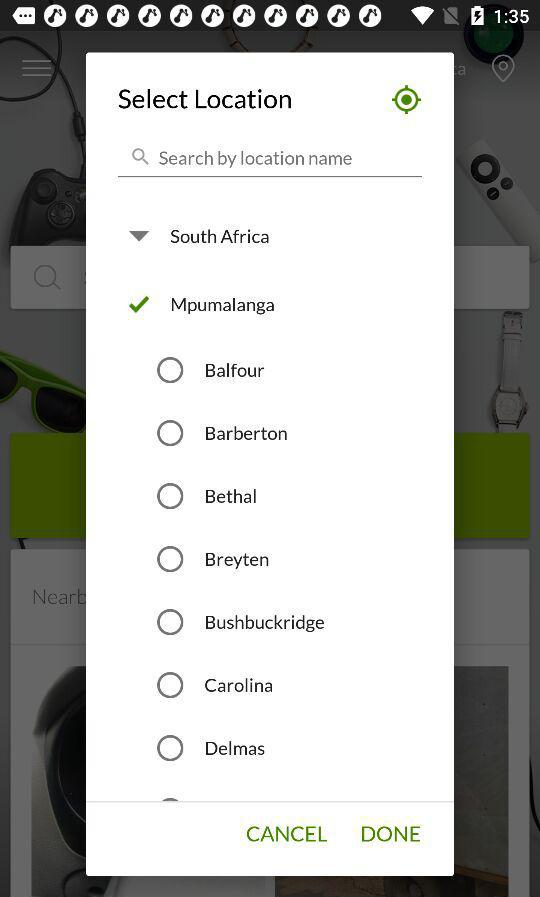CheckedTextView: (157, 608, 326, 636), (157, 419, 288, 447), (157, 671, 273, 699), (157, 545, 269, 573), (156, 356, 265, 384), (157, 734, 266, 762), (157, 482, 257, 510)
EditText: (118, 148, 423, 179)
Icon: (392, 85, 422, 115), (129, 296, 151, 314), (132, 148, 150, 167), (128, 231, 151, 243)
Modal: (86, 52, 455, 876)
Text: (119, 89, 292, 110), (160, 151, 353, 169), (206, 615, 326, 633), (172, 298, 275, 316), (171, 229, 270, 245), (246, 824, 329, 843), (206, 425, 288, 441), (205, 552, 269, 570), (205, 677, 273, 693), (361, 825, 421, 843), (206, 740, 266, 756), (206, 363, 265, 378), (206, 489, 257, 504)
UpperTaskBar: (1, 1, 540, 33)
